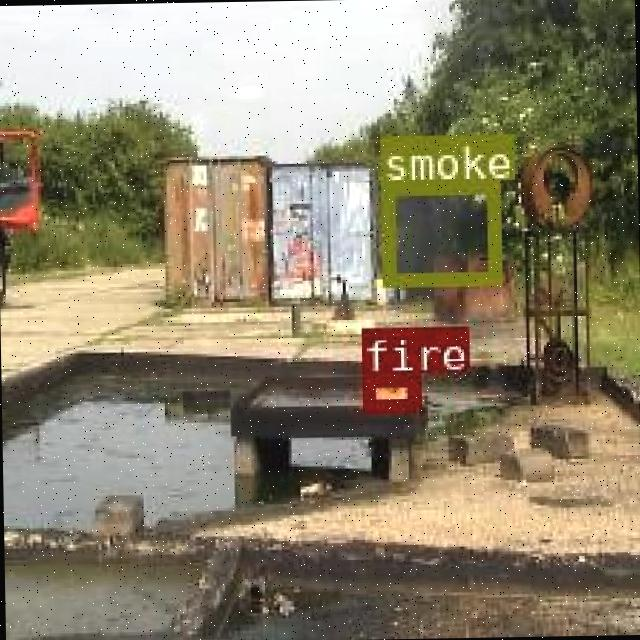fire: (358, 370, 417, 408)
smoke: (380, 178, 498, 283)
